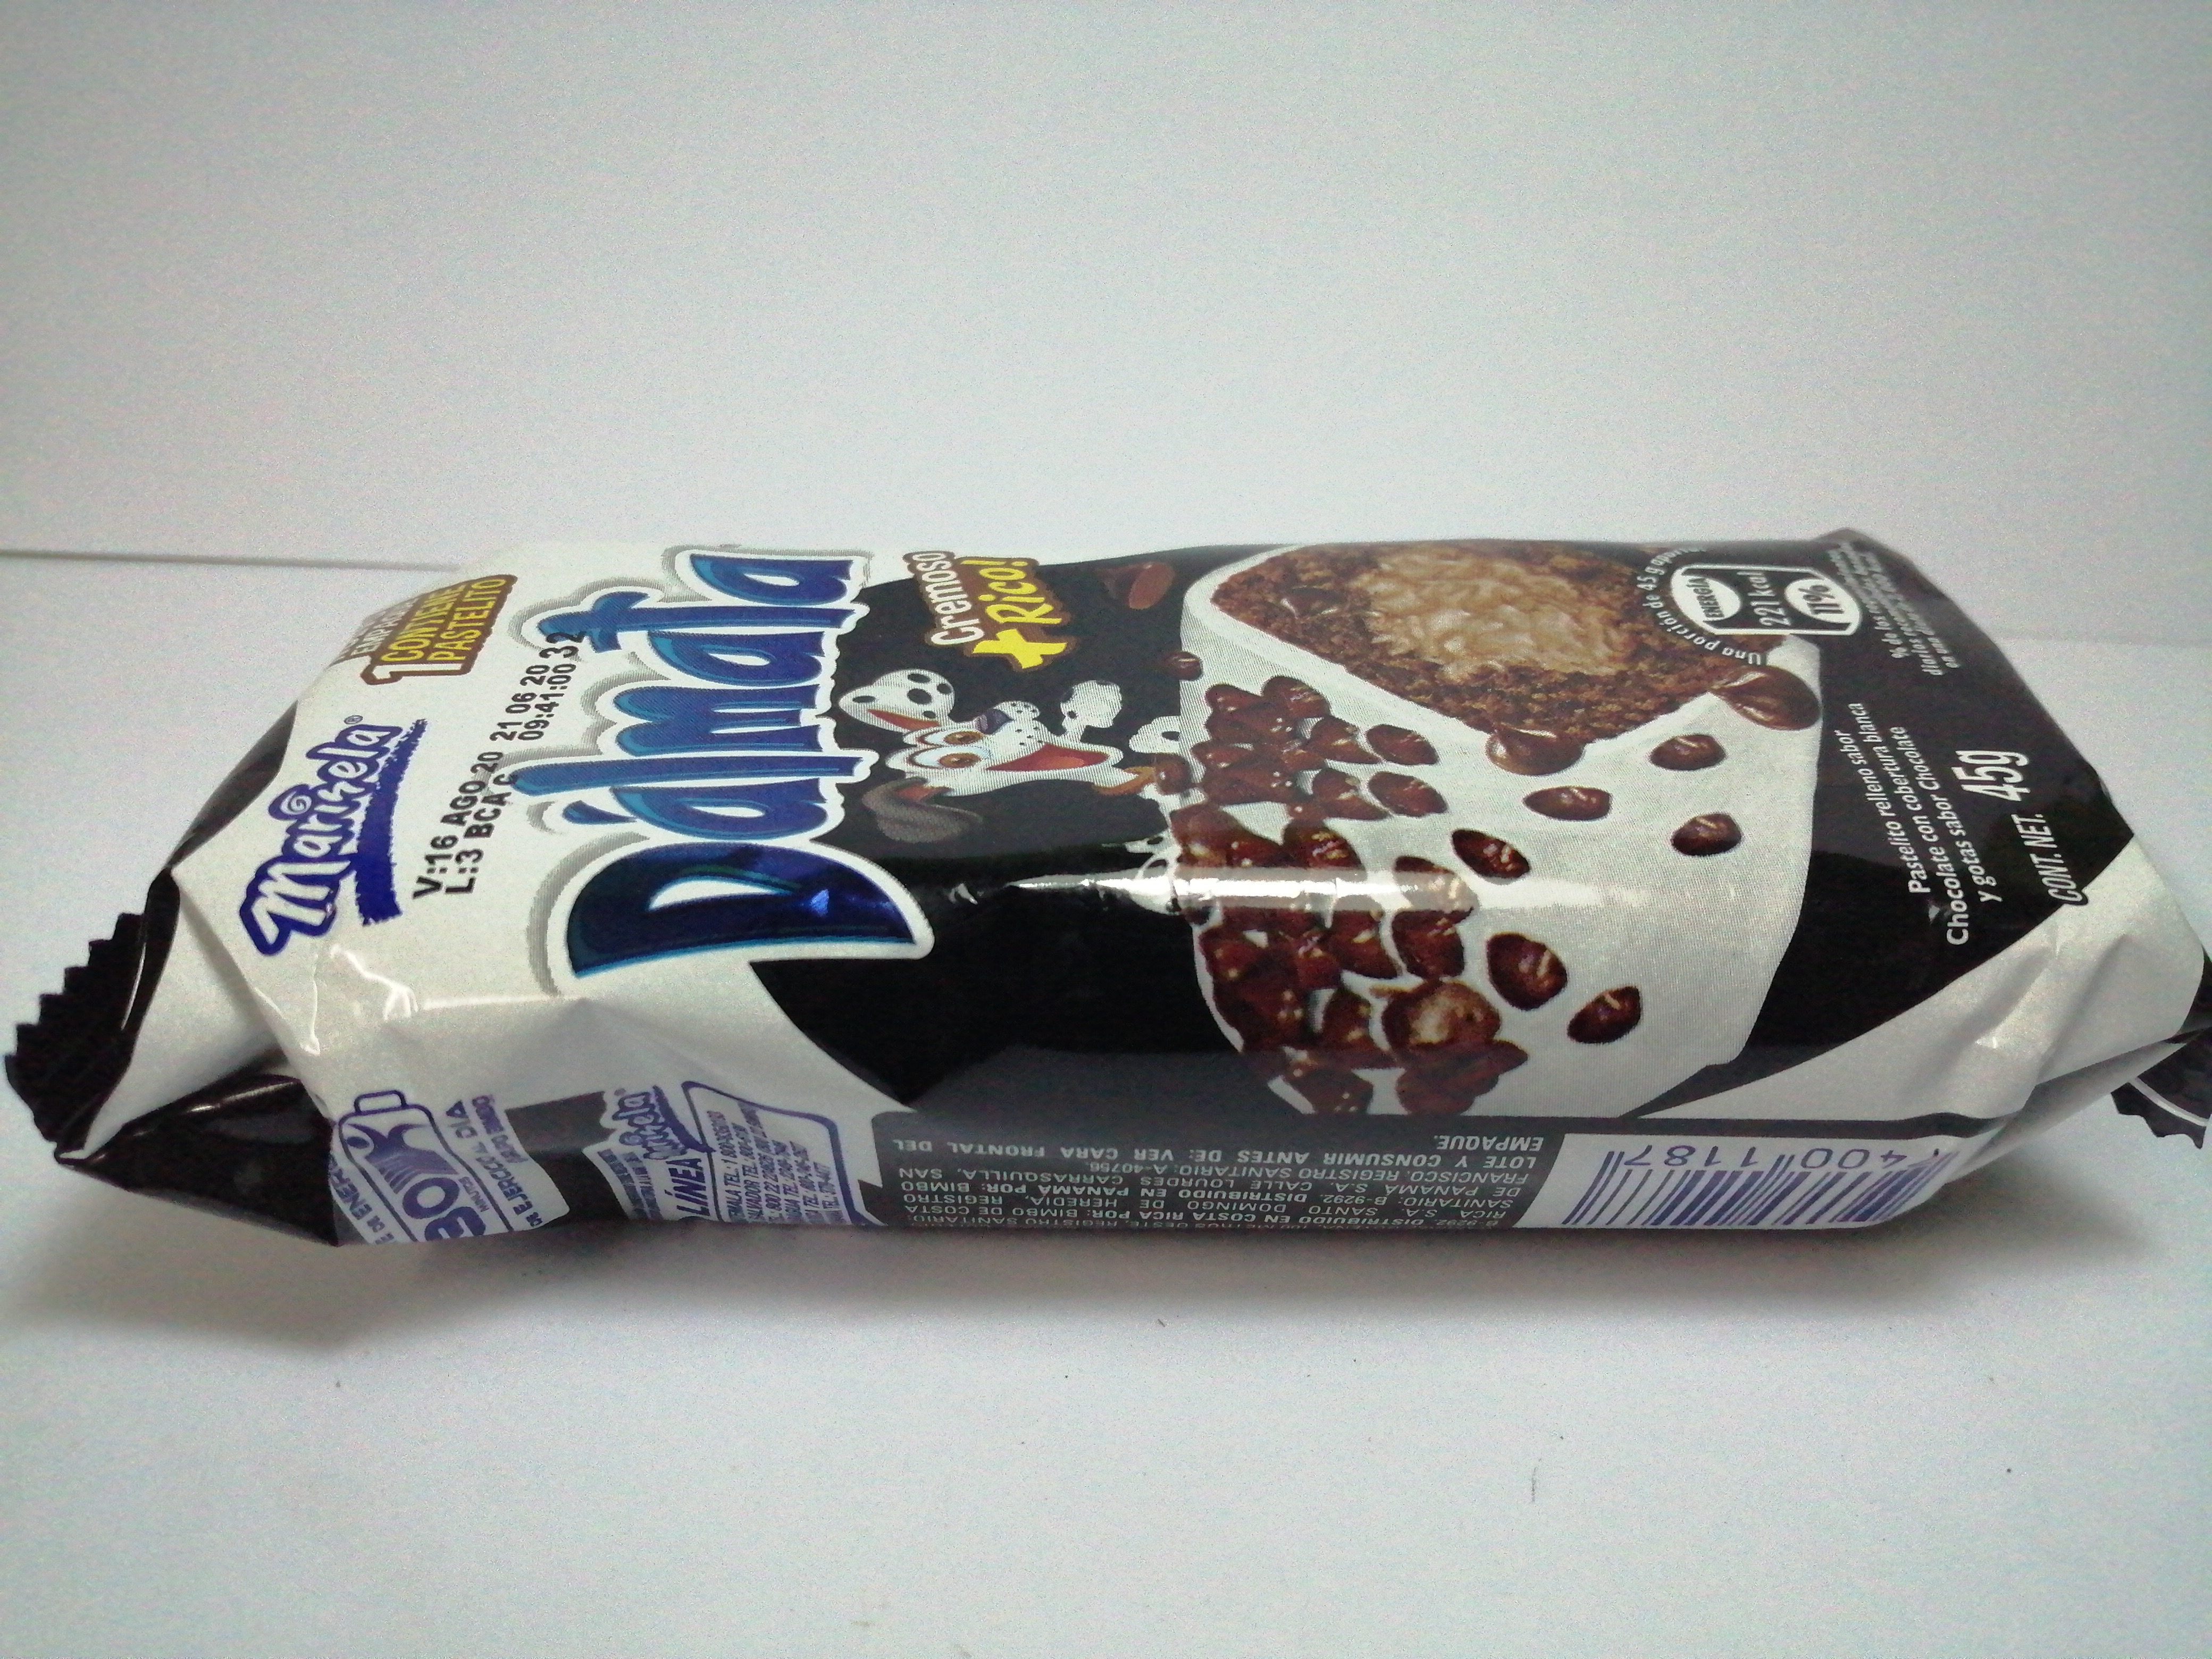dalmata: (0, 493, 2212, 1283)
